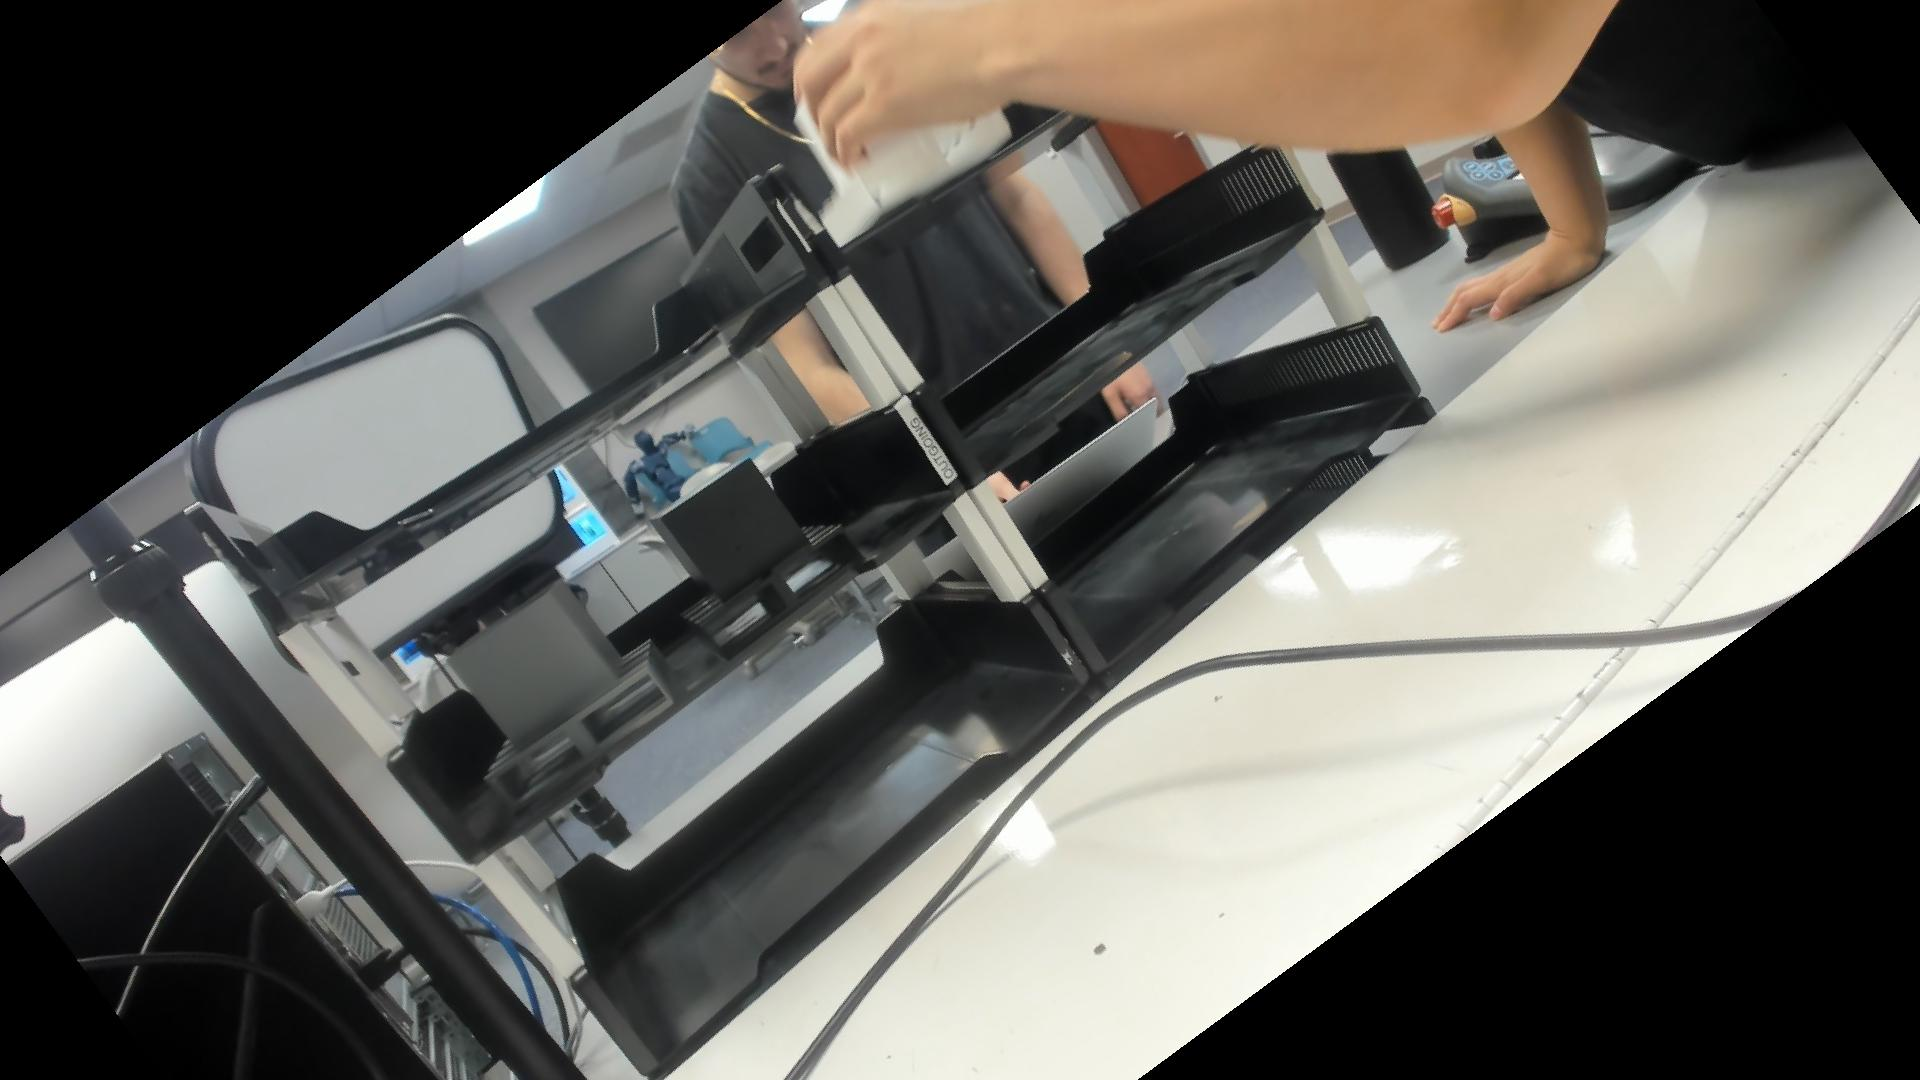black pallet: (645, 454, 868, 671)
grey pallet: (440, 572, 686, 822)
